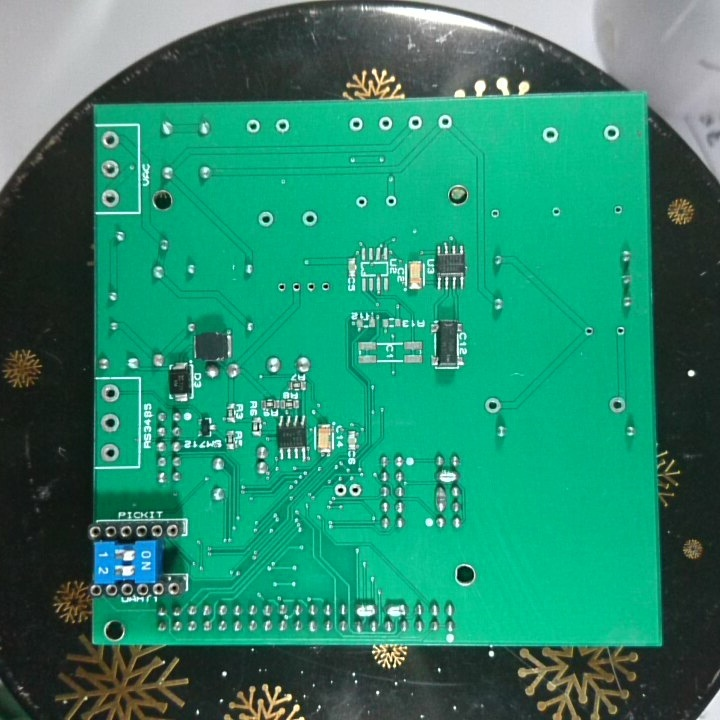F: (98, 381, 123, 406), (600, 121, 624, 145), (99, 411, 122, 435), (99, 441, 122, 465), (98, 129, 123, 151), (482, 394, 504, 418), (607, 393, 628, 418), (99, 158, 121, 181), (99, 187, 122, 209), (539, 125, 561, 147), (435, 111, 457, 133), (376, 113, 397, 135), (345, 114, 366, 136), (255, 209, 276, 231), (273, 115, 293, 138), (298, 208, 319, 229), (405, 113, 424, 135), (243, 117, 263, 137), (331, 480, 348, 502), (346, 480, 363, 500), (611, 323, 630, 340), (383, 192, 399, 212), (486, 205, 504, 222), (610, 200, 625, 220), (549, 203, 565, 220), (288, 279, 305, 295), (273, 279, 289, 296), (354, 193, 369, 211), (317, 278, 333, 294), (581, 324, 595, 340), (303, 280, 319, 293)
P: (351, 599, 379, 620), (382, 600, 410, 619), (432, 484, 448, 515), (432, 468, 460, 484)
